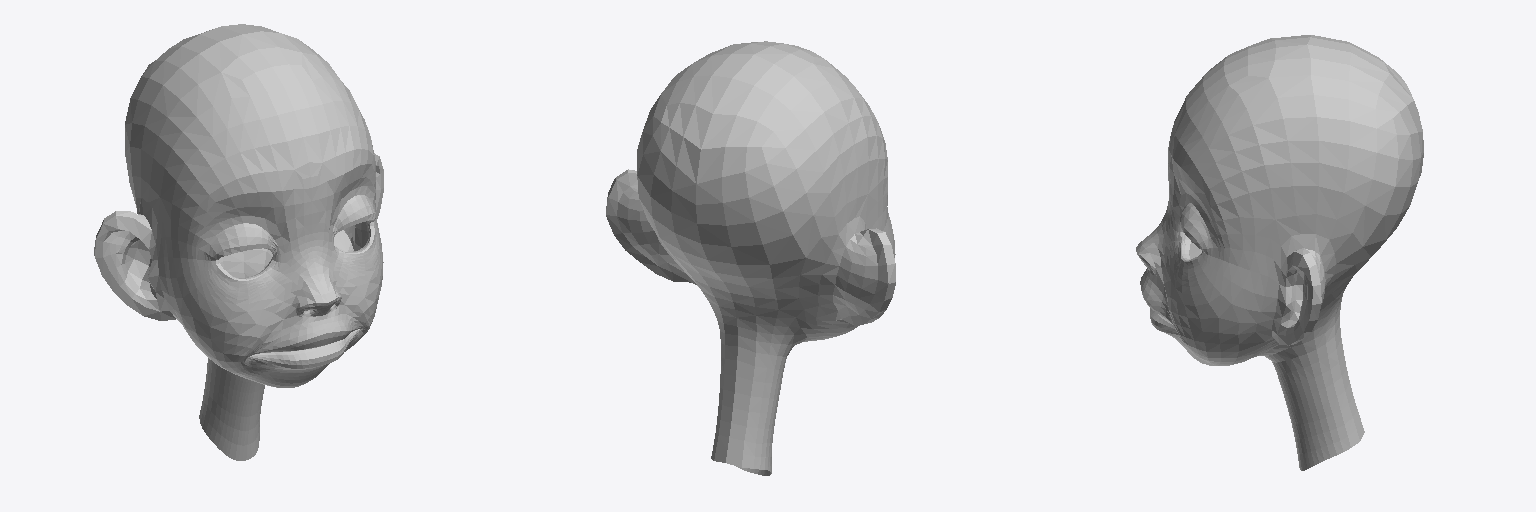
File: lipStretcher.obj
The picture shows the model from 3 angles: view 1: azimuth 30°, elevation 25°; view 2: azimuth 150°, elevation 25°; view 3: azimuth 270°, elevation 25°; orthographic projection.
Visible parts, largest first — view 1: ZBrushPolyMesh3D; view 2: ZBrushPolyMesh3D; view 3: ZBrushPolyMesh3D.
Part boxes in pixels (bbox=[...]): ZBrushPolyMesh3D: bbox=[94, 24, 383, 460]; ZBrushPolyMesh3D: bbox=[606, 41, 895, 475]; ZBrushPolyMesh3D: bbox=[1136, 35, 1423, 470].
Size of the model in its own units: 5.74 by 8.03 by 4.96.